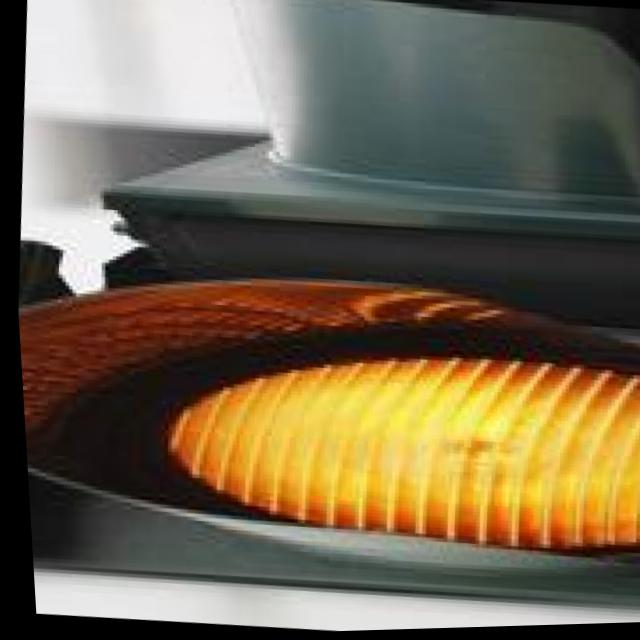yellow_light: (135, 241, 640, 637)
